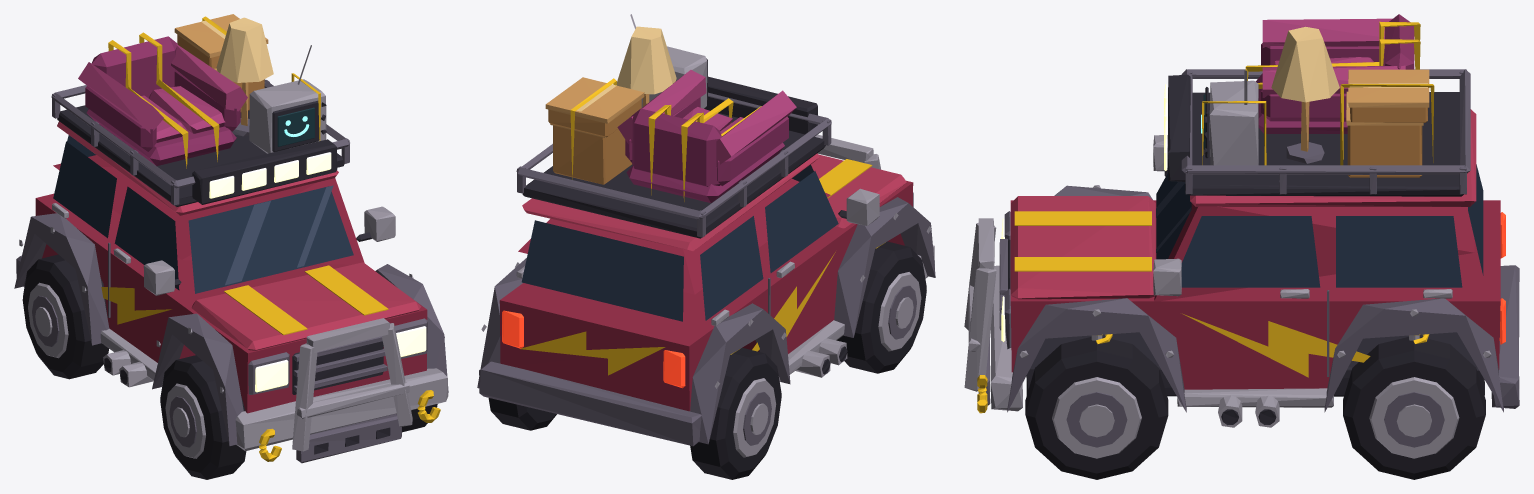
The model's file is rogue_car_LOD1.fbx.
3 renders of one model, left to right at view 1: azimuth 30°, elevation 25°; view 2: azimuth 150°, elevation 25°; view 3: azimuth 270°, elevation 25°, orthographic. The views are drawn at different scales.
Visible parts, largest first — view 1: Cargo_Couch_LOD1, Body_WheelCutShell_LOD1, Glass_Windscreen_LOD1, Bonnet_LOD1, Wheel_FL_LOD1, Wheel_RL_LOD1, Front_Bumper_LOD1, Cargo_RetroTV_LOD1, WheelArch_RL_LOD1, WheelArch_FL_LOD1, Rack_Base_LOD1, Body_AngularCabin_LOD1 (+32 smaller); view 2: Body_WheelCutShell_LOD1, Cargo_Couch_LOD1, Glass_Rear_LOD1, Rear_Bumper_LOD1, Wheel_RL_LOD1, Wheel_FL_LOD1, Rack_Base_LOD1, WheelArch_RL_LOD1, WheelArch_FL_LOD1, Glass_Side_-1_0_LOD1, Glass_Side_-1_1_LOD1, Cargo_Box_1_LOD1 (+22 smaller); view 3: Body_WheelCutShell_LOD1, Wheel_FR_LOD1, Wheel_RR_LOD1, Rack_Base_LOD1, Bonnet_LOD1, Glass_Side_1_0_LOD1, Cargo_Couch_LOD1, Glass_Side_1_1_LOD1, WheelArch_FR_LOD1, WheelArch_RR_LOD1, Body_AngularCabin_LOD1, Cargo_StandingLamp_LOD1 (+23 smaller).
Boxes of the visible parts, left/top/right/bottom form: Cargo_Couch_LOD1: left=78, top=36, right=247, bottom=166; Body_WheelCutShell_LOD1: left=35, top=193, right=427, bottom=413; Glass_Windscreen_LOD1: left=188, top=186, right=353, bottom=293; Bonnet_LOD1: left=191, top=262, right=421, bottom=350; Wheel_FL_LOD1: left=160, top=355, right=246, bottom=479; Wheel_RL_LOD1: left=22, top=254, right=108, bottom=379; Front_Bumper_LOD1: left=235, top=368, right=448, bottom=451; Cargo_RetroTV_LOD1: left=249, top=45, right=326, bottom=153; WheelArch_RL_LOD1: left=14, top=213, right=109, bottom=345; WheelArch_FL_LOD1: left=152, top=313, right=243, bottom=445; Rack_Base_LOD1: left=57, top=105, right=344, bottom=206; Body_AngularCabin_LOD1: left=53, top=155, right=364, bottom=264; Body_WheelCutShell_LOD1: left=499, top=180, right=913, bottom=411; Cargo_Couch_LOD1: left=617, top=70, right=796, bottom=202; Glass_Rear_LOD1: left=521, top=220, right=683, bottom=321; Rear_Bumper_LOD1: left=479, top=361, right=701, bottom=446; Wheel_RL_LOD1: left=690, top=348, right=781, bottom=479; Wheel_FL_LOD1: left=837, top=241, right=926, bottom=373; Rack_Base_LOD1: left=522, top=113, right=825, bottom=238; WheelArch_RL_LOD1: left=690, top=303, right=790, bottom=444; WheelArch_FL_LOD1: left=834, top=197, right=935, bottom=337; Glass_Side_-1_0_LOD1: left=765, top=171, right=838, bottom=272; Glass_Side_-1_1_LOD1: left=700, top=216, right=763, bottom=320; Cargo_Box_1_LOD1: left=545, top=77, right=644, bottom=137; Body_WheelCutShell_LOD1: left=1010, top=200, right=1500, bottom=389; Wheel_FR_LOD1: left=1025, top=337, right=1168, bottom=479; Wheel_RR_LOD1: left=1343, top=337, right=1485, bottom=479; Rack_Base_LOD1: left=1189, top=92, right=1463, bottom=196; Bonnet_LOD1: left=1011, top=196, right=1155, bottom=299; Glass_Side_1_0_LOD1: left=1181, top=216, right=1320, bottom=287; Cargo_Couch_LOD1: left=1255, top=14, right=1414, bottom=133; Glass_Side_1_1_LOD1: left=1336, top=216, right=1462, bottom=287; WheelArch_FR_LOD1: left=1007, top=298, right=1186, bottom=412; WheelArch_RR_LOD1: left=1324, top=298, right=1503, bottom=412; Body_AngularCabin_LOD1: left=1154, top=203, right=1474, bottom=301; Cargo_StandingLamp_LOD1: left=1271, top=26, right=1339, bottom=163.
Bounding box in the file's own units: 3.28 × 4.55 × 5.67.
